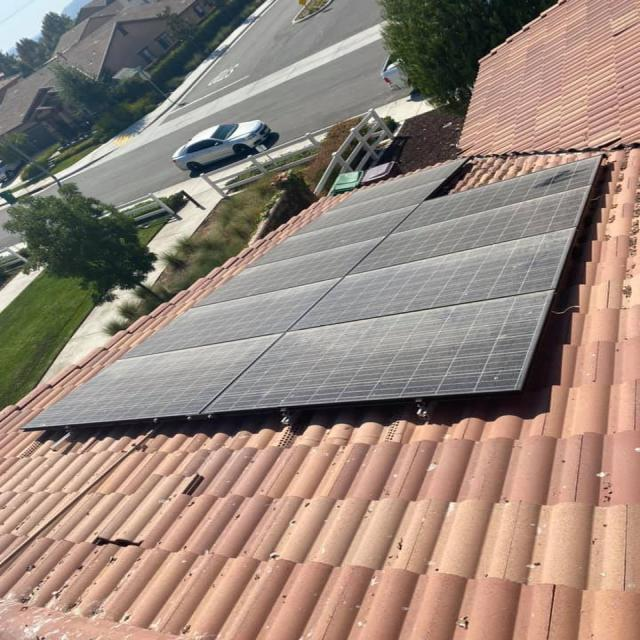dust-solar-panel: (19, 152, 605, 426)
